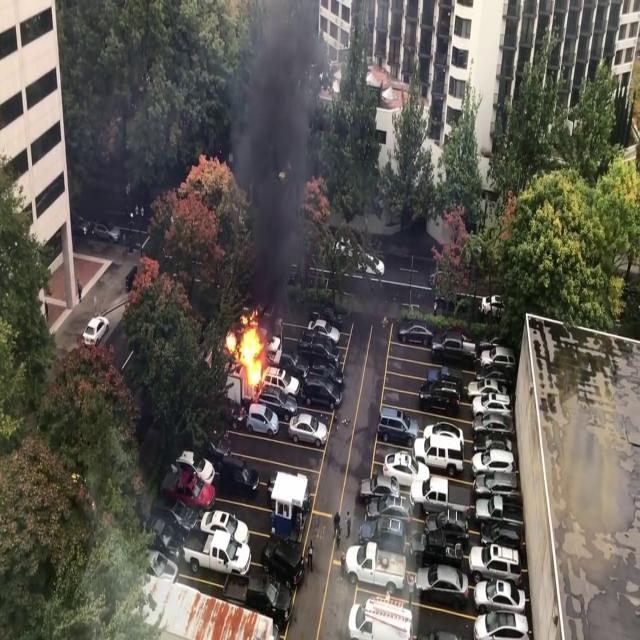Fire: (223, 309, 271, 388)
Smoke: (213, 2, 341, 314)
